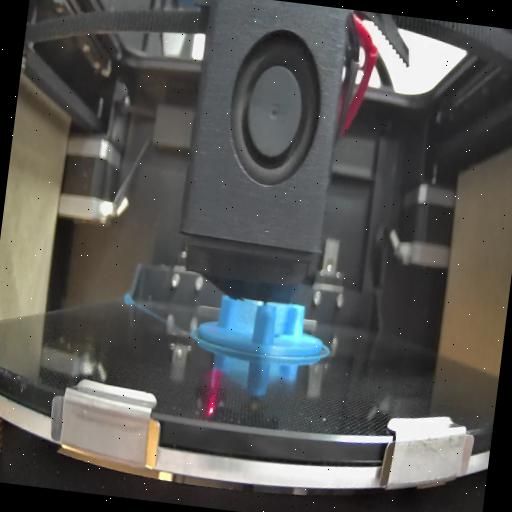stringing: (226, 297, 258, 339), (274, 304, 290, 338)
